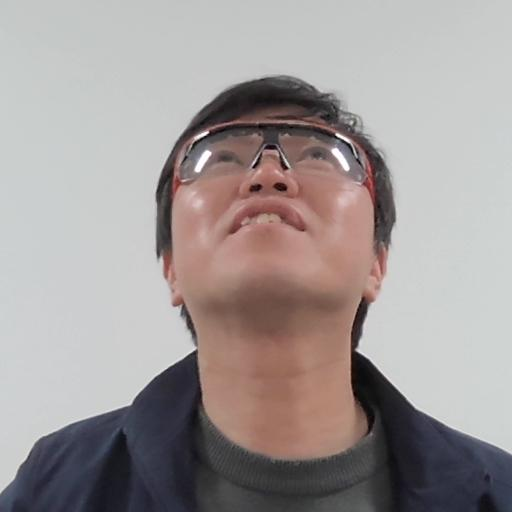glasses: (151, 76, 403, 372)
